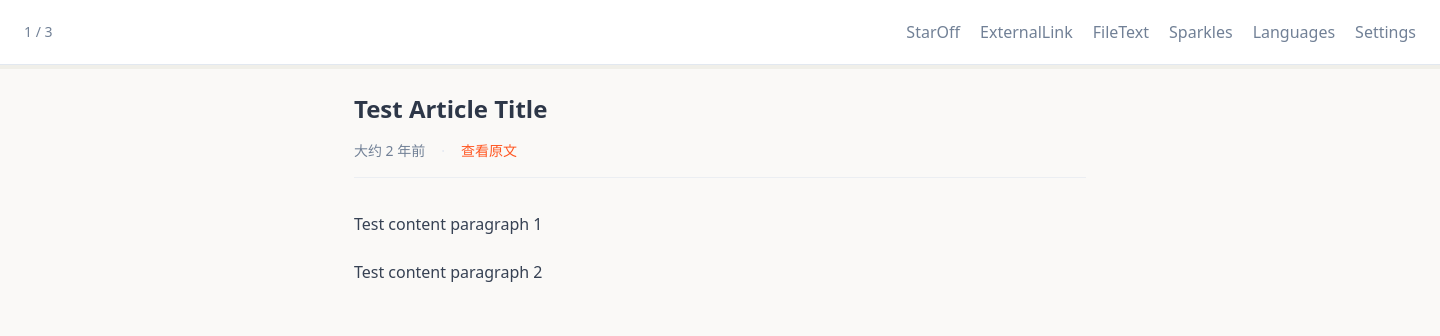
Scenario: ArticleViewer › error handling › should show error when translate fails
The width and height of the screenshot is (1440, 336).
Step 1. Click the button titled "翻译文章" → coordinates (1294, 32), box [1245, 12, 1343, 52]
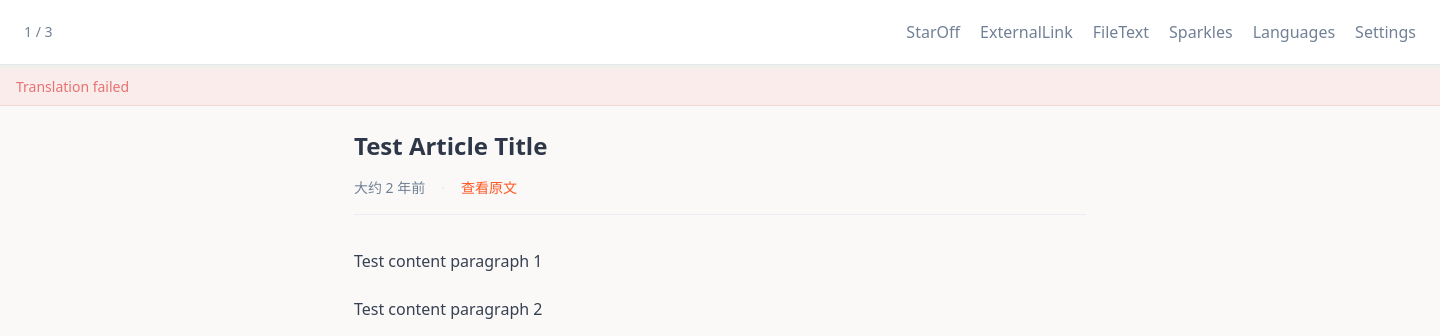
Check: the text with test id "fetch-error-banner" reads "Translation failed", box [16, 77, 129, 96]
